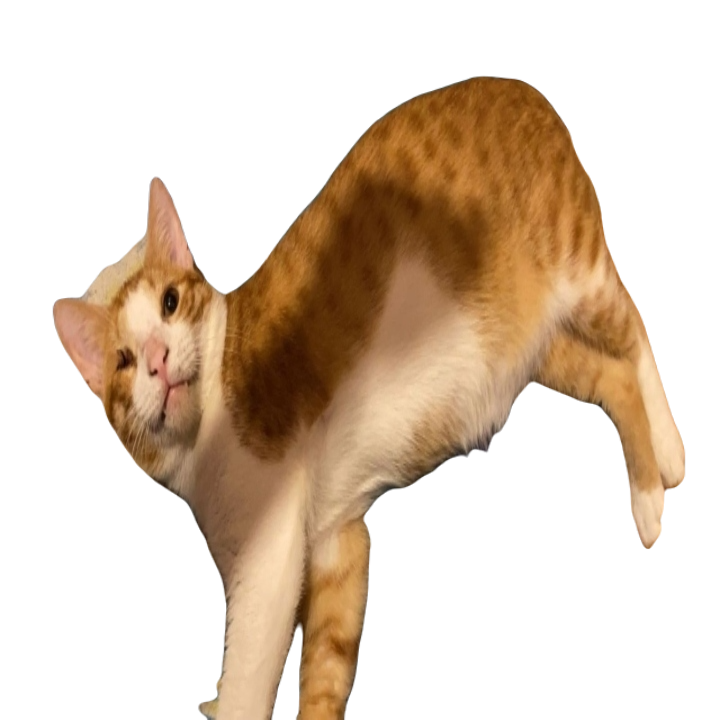Cat: (49, 74, 719, 719)
